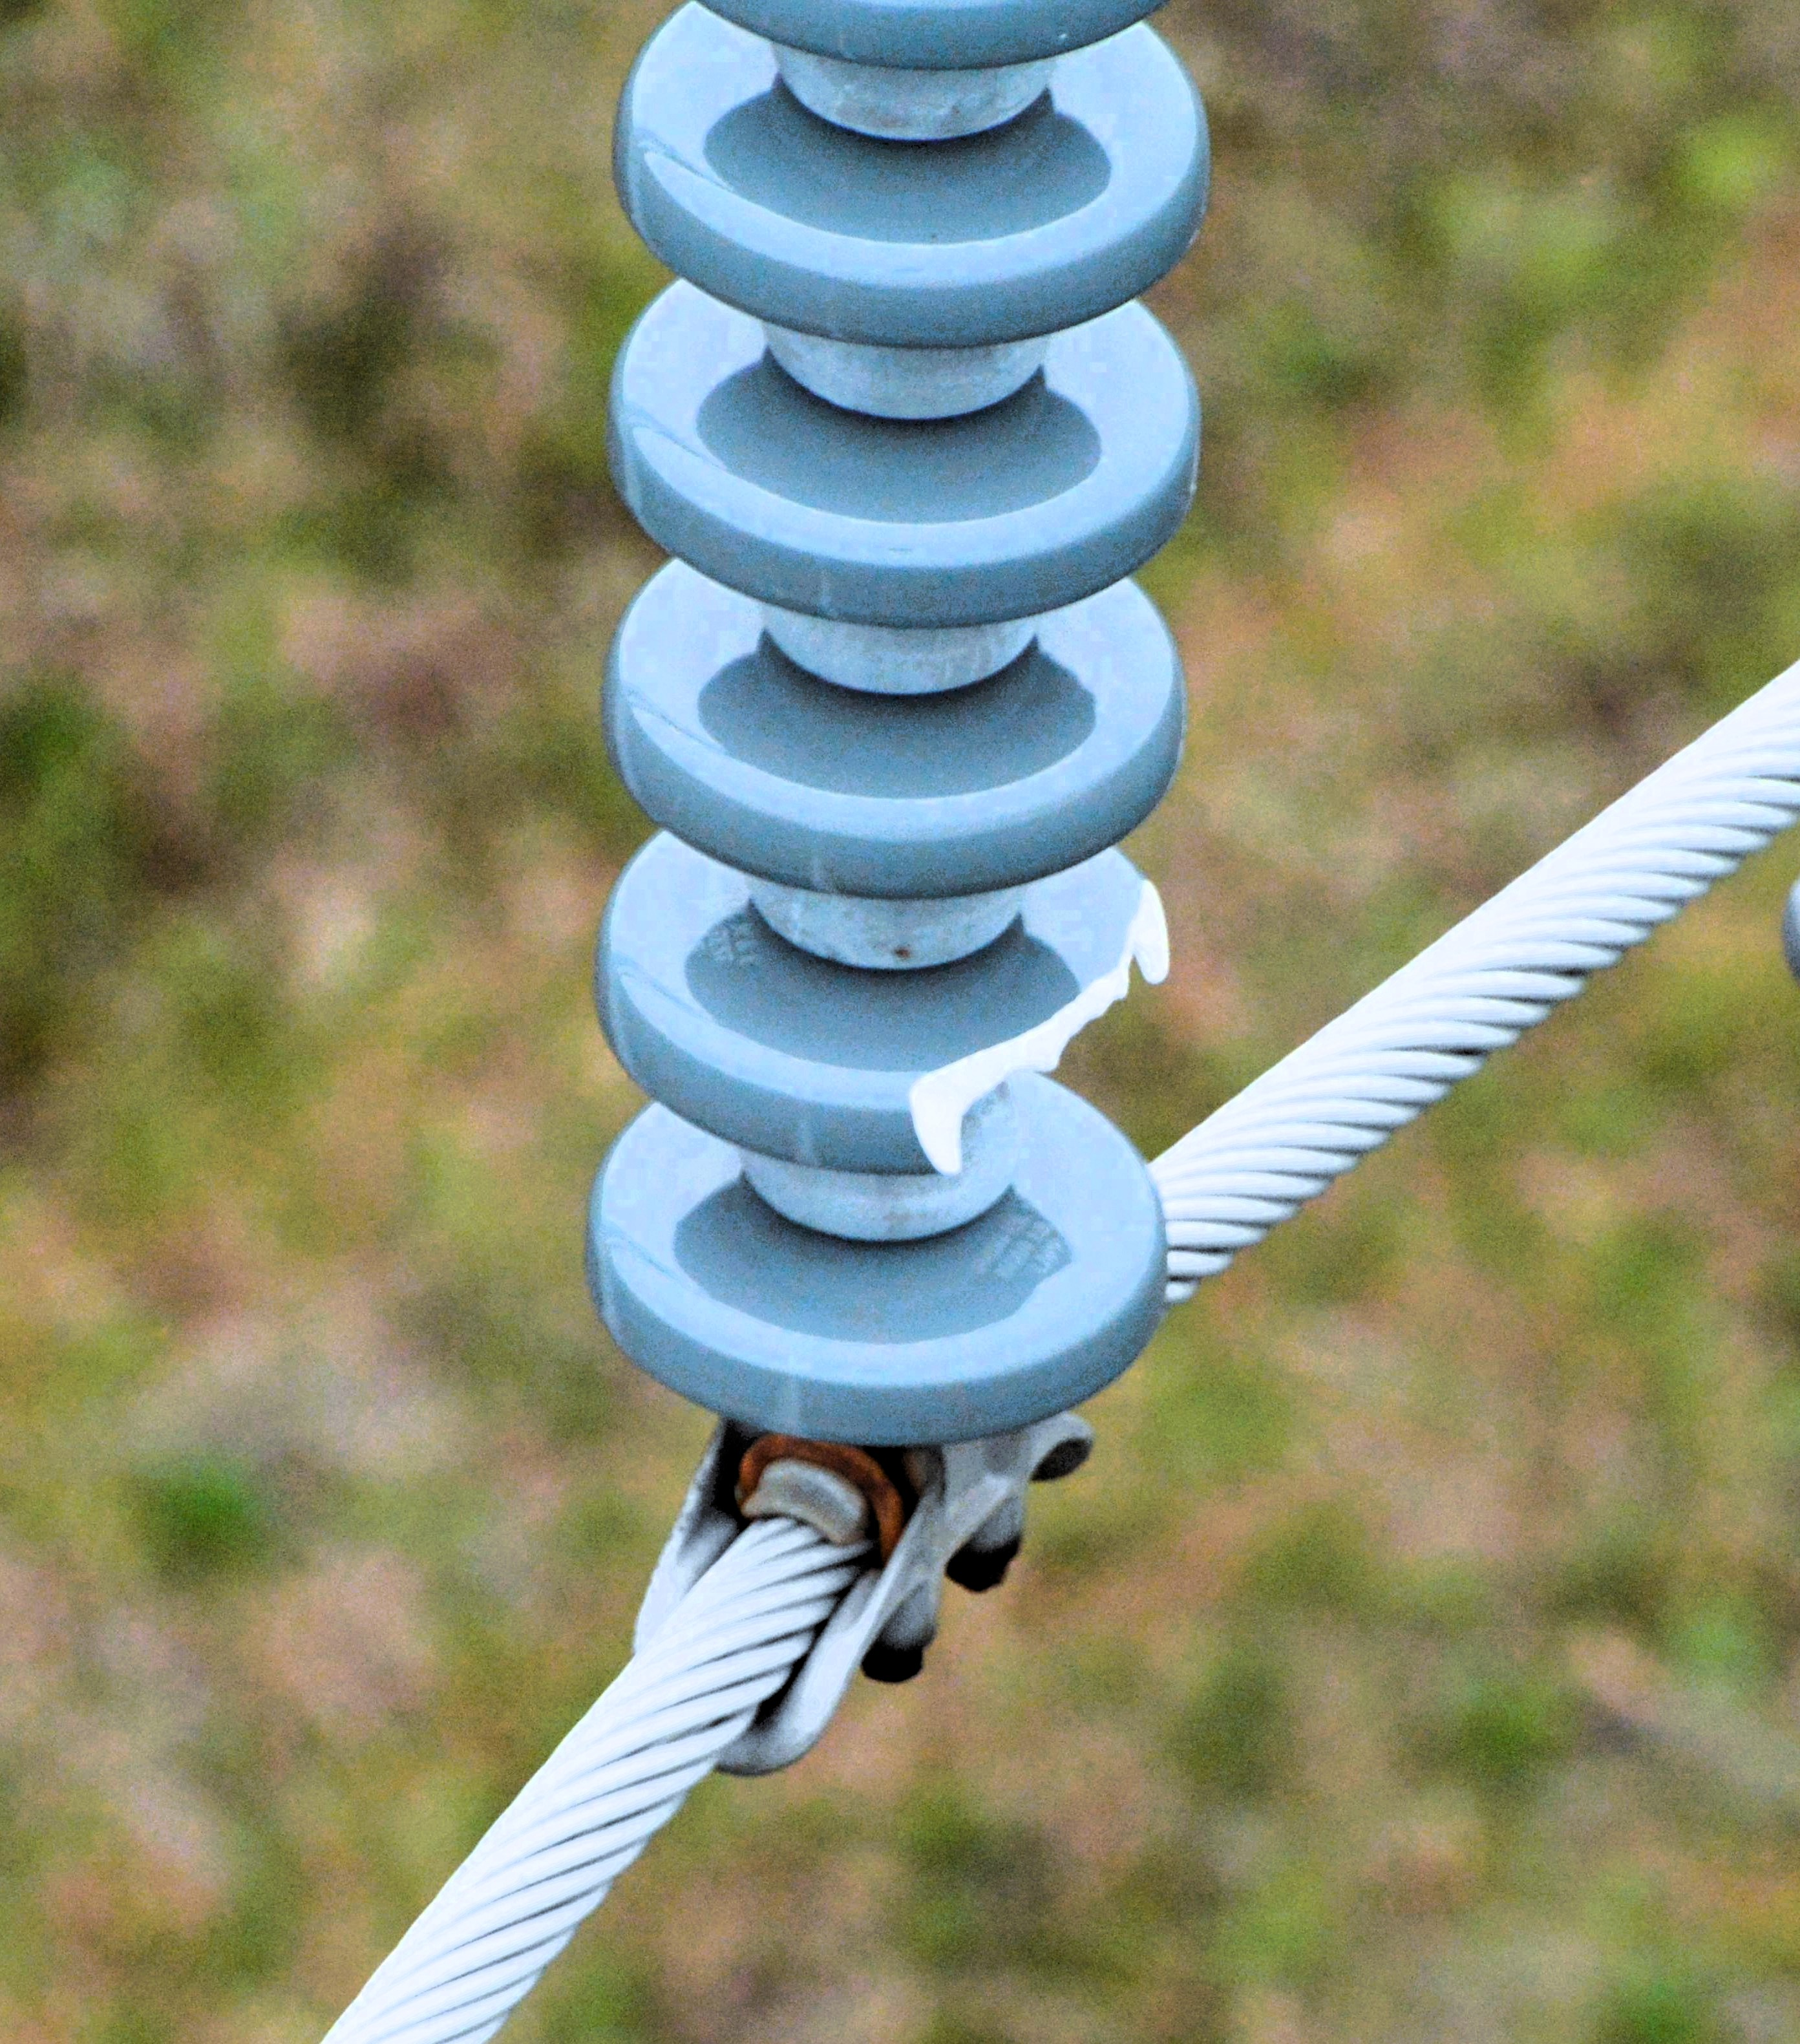insulator breakage: (570, 871, 1202, 1203)
